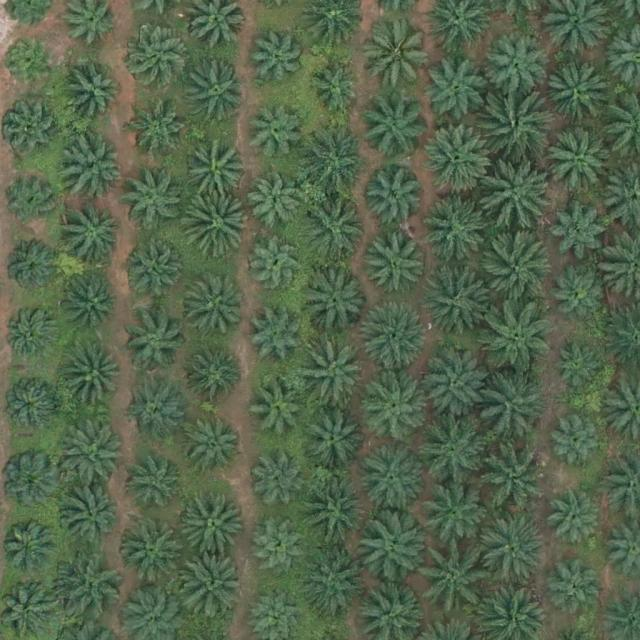Healthy: (480, 514, 551, 584), (353, 516, 423, 587), (301, 549, 371, 620), (181, 551, 251, 622), (116, 518, 186, 589), (56, 549, 126, 620), (545, 125, 615, 196), (479, 93, 550, 163), (485, 236, 555, 307), (482, 302, 552, 373), (476, 370, 546, 441), (479, 439, 549, 510), (419, 349, 489, 420), (423, 265, 493, 336), (423, 195, 493, 266), (359, 446, 429, 517), (300, 476, 370, 547), (301, 342, 372, 412), (300, 190, 370, 261), (300, 128, 371, 198), (177, 489, 247, 560), (182, 190, 252, 261), (59, 419, 129, 490), (365, 21, 435, 92), (424, 544, 494, 614), (483, 163, 553, 233), (418, 474, 488, 544), (417, 417, 487, 487), (359, 94, 429, 164), (422, 123, 492, 193), (360, 303, 430, 373), (549, 202, 612, 265), (364, 381, 427, 444), (299, 408, 362, 471), (180, 413, 243, 476), (122, 241, 185, 304), (124, 387, 187, 450), (125, 456, 188, 519), (62, 64, 125, 127), (60, 485, 123, 548), (185, 60, 248, 123), (362, 168, 424, 231), (367, 233, 429, 296), (306, 273, 368, 336), (181, 274, 243, 337), (189, 143, 251, 206), (121, 173, 183, 236), (124, 310, 187, 372), (64, 137, 127, 199), (63, 201, 125, 264), (65, 347, 127, 410), (543, 64, 605, 127), (486, 36, 548, 99), (424, 58, 486, 121), (126, 26, 188, 89), (246, 108, 301, 163), (248, 178, 303, 233), (249, 238, 304, 293), (251, 381, 306, 436), (254, 456, 309, 511), (184, 347, 239, 402), (135, 108, 190, 163), (64, 274, 119, 329), (3, 38, 58, 93), (3, 101, 58, 156), (5, 174, 60, 229), (6, 244, 61, 299), (6, 309, 61, 364), (308, 58, 363, 113), (548, 560, 602, 615), (550, 490, 604, 545), (550, 413, 604, 468), (557, 267, 611, 322), (250, 313, 304, 368), (251, 522, 305, 577), (250, 29, 304, 84)
Small: (556, 343, 603, 391)
